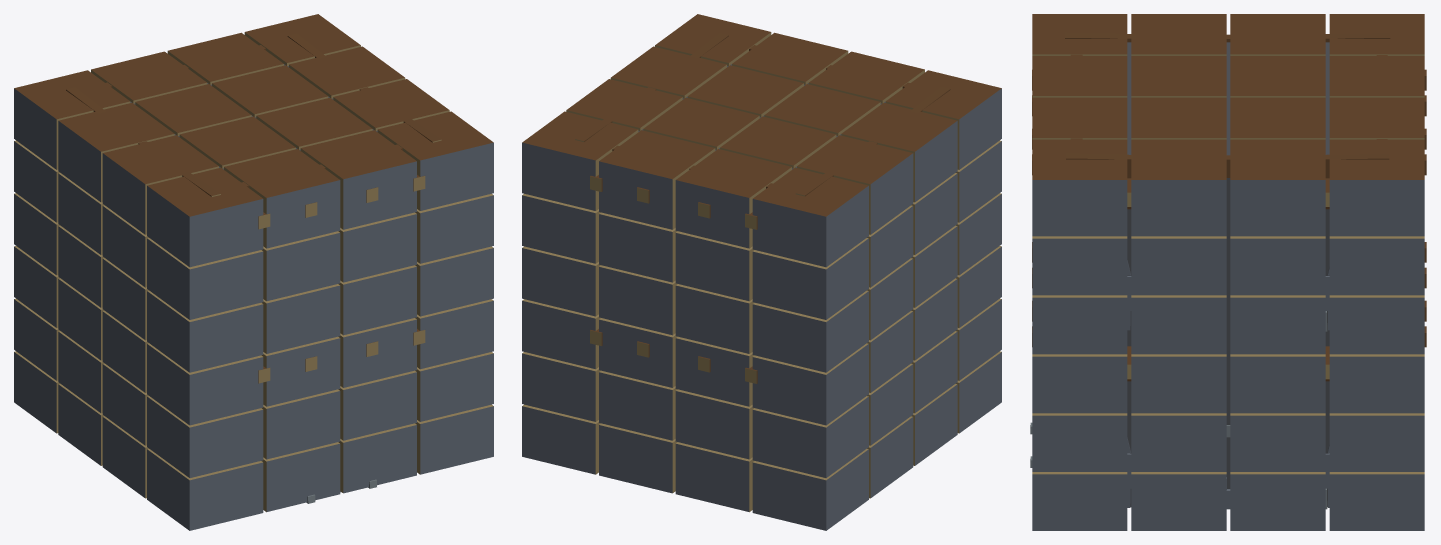
The model's file is House_3_destructible.gltf.
3 renders of one model, left to right at view 1: azimuth 30°, elevation 25°; view 2: azimuth 150°, elevation 25°; view 3: azimuth 270°, elevation 25°, orthographic. The views are drawn at different scales.
Visible parts, largest first — view 1: block_f5_r3_c0, block_f5_r3_c2, block_f5_r3_c1, block_f5_r3_c3, block_f2_r3_c0, block_f3_r3_c0, block_f4_r3_c0, block_f1_r3_c0, block_f0_r3_c0, block_f5_r1_c0, block_f5_r0_c0, block_f5_r2_c0 (+39 smaller); view 2: block_f5_r0_c0, block_f5_r0_c2, block_f5_r0_c1, block_f5_r0_c3, block_f2_r0_c0, block_f3_r0_c0, block_f4_r0_c0, block_f1_r0_c0, block_f0_r0_c0, block_f5_r2_c0, block_f5_r3_c0, block_f5_r1_c0 (+39 smaller); view 3: block_f5_r1_c3, block_f5_r2_c3, block_f5_r0_c3, block_f5_r3_c3, block_f4_r2_c3, block_f3_r1_c3, block_f4_r1_c3, block_f2_r2_c3, block_f2_r1_c3, block_f3_r2_c3, block_f0_r1_c3, block_f2_r0_c3 (+24 smaller).
Boxes of the visible parts, box(x1,y1,x2,y2) form: block_f5_r3_c0: box(147, 167, 264, 267); block_f5_r3_c2: box(300, 130, 418, 229); block_f5_r3_c1: box(223, 149, 340, 248); block_f5_r3_c3: box(377, 111, 493, 210); block_f2_r3_c0: box(147, 343, 264, 425); block_f3_r3_c0: box(147, 290, 263, 372); block_f4_r3_c0: box(147, 238, 263, 319); block_f1_r3_c0: box(147, 396, 263, 477); block_f0_r3_c0: box(147, 449, 263, 530); block_f5_r1_c0: box(58, 103, 174, 202); block_f5_r0_c0: box(14, 70, 130, 169); block_f5_r2_c0: box(102, 135, 218, 234); block_f5_r0_c0: box(750, 167, 868, 267); block_f5_r0_c2: box(596, 130, 715, 229); block_f5_r0_c1: box(675, 149, 792, 248); block_f5_r0_c3: box(522, 111, 638, 210); block_f2_r0_c0: box(750, 343, 868, 425); block_f3_r0_c0: box(752, 290, 868, 372); block_f4_r0_c0: box(752, 238, 868, 319); block_f1_r0_c0: box(752, 396, 868, 477); block_f0_r0_c0: box(752, 449, 868, 530); block_f5_r2_c0: box(841, 103, 957, 202); block_f5_r3_c0: box(885, 70, 1001, 169); block_f5_r1_c0: box(797, 135, 913, 234); block_f5_r1_c3: box(1228, 139, 1327, 236); block_f5_r2_c3: box(1129, 139, 1228, 236); block_f5_r0_c3: box(1327, 139, 1426, 236); block_f5_r3_c3: box(1032, 139, 1129, 236); block_f4_r2_c3: box(1129, 212, 1228, 295); block_f3_r1_c3: box(1228, 271, 1327, 354); block_f4_r1_c3: box(1228, 212, 1327, 295); block_f2_r2_c3: box(1129, 330, 1228, 413); block_f2_r1_c3: box(1228, 330, 1327, 413); block_f3_r2_c3: box(1129, 271, 1228, 354); block_f0_r1_c3: box(1228, 448, 1327, 530); block_f2_r0_c3: box(1327, 329, 1426, 413).
Size of the model in its own units: 8.41 by 8.36 by 8.5.
